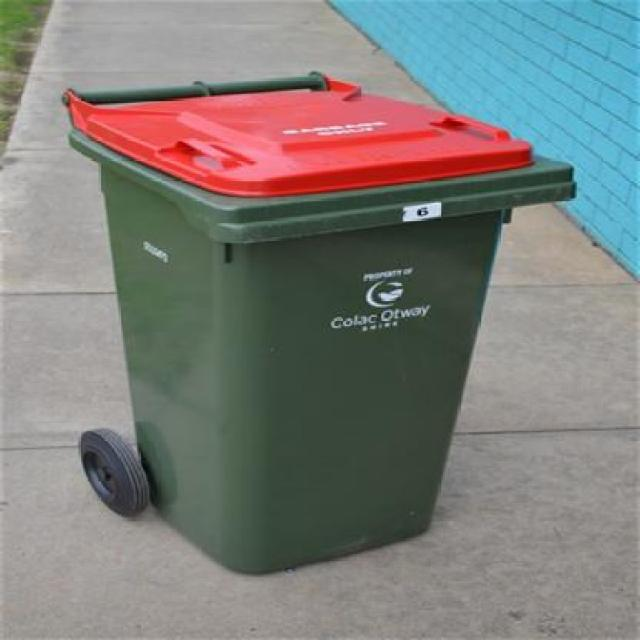garbage container: (45, 67, 604, 588)
